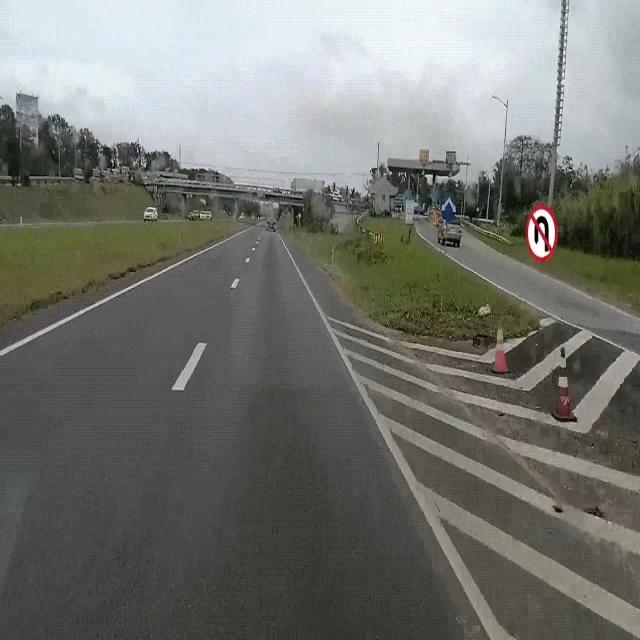Demi-Tour-Interdit: (521, 196, 559, 266)
